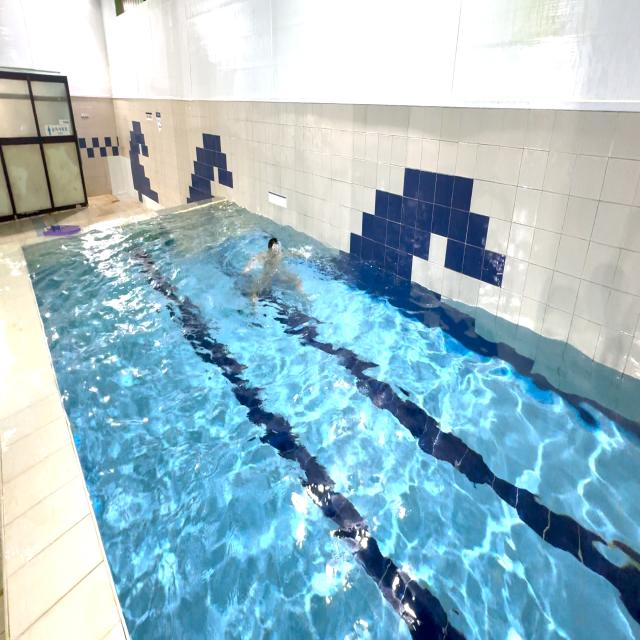Drowning: (234, 220, 319, 326)
